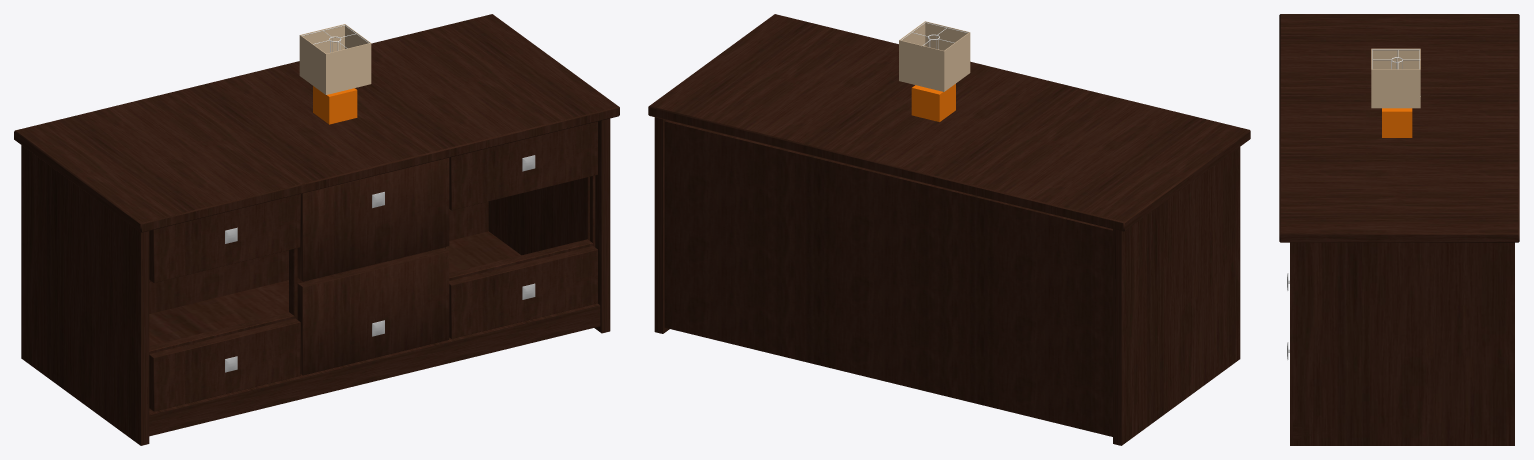
Rendered from wooden-cab4.glb.
3 renders of one model, left to right at view 1: azimuth 30°, elevation 25°; view 2: azimuth 150°, elevation 25°; view 3: azimuth 270°, elevation 25°, orthographic. The views are drawn at different scales.
Visible parts, largest first — view 1: Cube_8_PBR_0.004; view 2: Cube_8_PBR_0.004; view 3: Cube_8_PBR_0.004.
Part boxes in pixels (x1=…): Cube_8_PBR_0.004: x1=14, y1=14, x2=619, y2=445; Cube_8_PBR_0.004: x1=648, y1=14, x2=1250, y2=445; Cube_8_PBR_0.004: x1=1279, y1=14, x2=1519, y2=445.
Bounding box in the file's own units: 1.9 × 1.16 × 0.8778.
5 materials, 1 textured.
